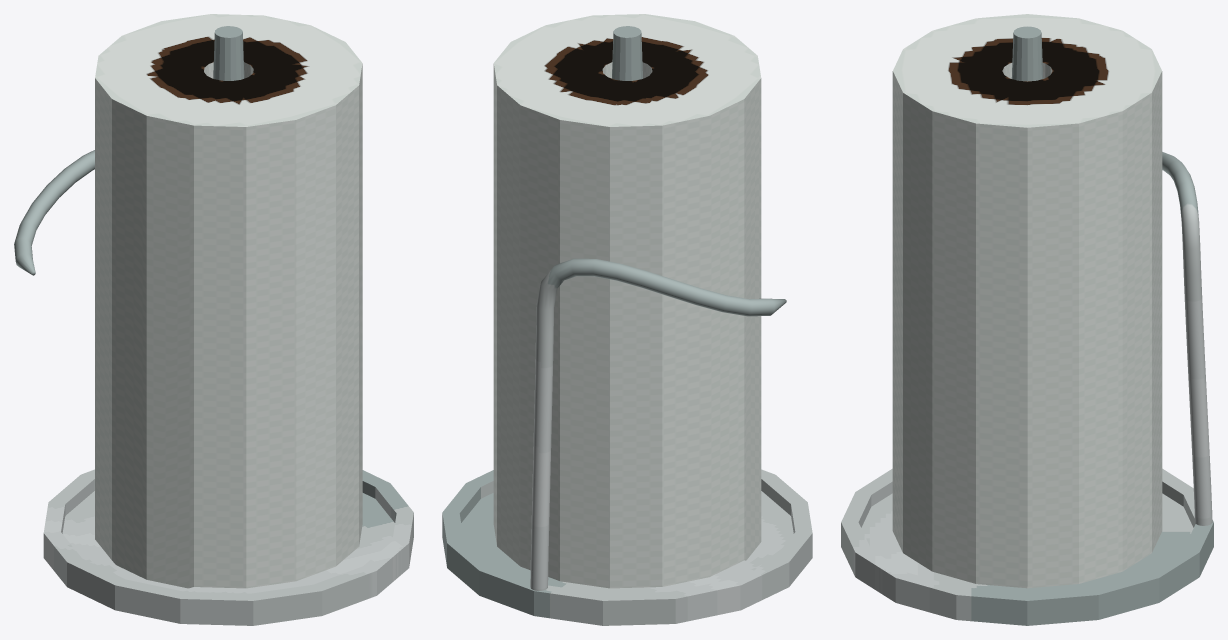
Rendered from papel derolo.fbx.
3 views of the same model, side by side, from view 1: azimuth 30°, elevation 25°; view 2: azimuth 150°, elevation 25°; view 3: azimuth 270°, elevation 25° (orthographic).
Visible parts, largest first — view 1: Cylinder.005; view 2: Cylinder.005; view 3: Cylinder.005.
Part boxes in pixels (x1=…): Cylinder.005: x1=14, y1=14, x2=413, y2=625; Cylinder.005: x1=442, y1=14, x2=812, y2=625; Cylinder.005: x1=841, y1=14, x2=1213, y2=625.
Size of the model in its own units: 222 by 324 by 210.
2 materials, 2 textured.
